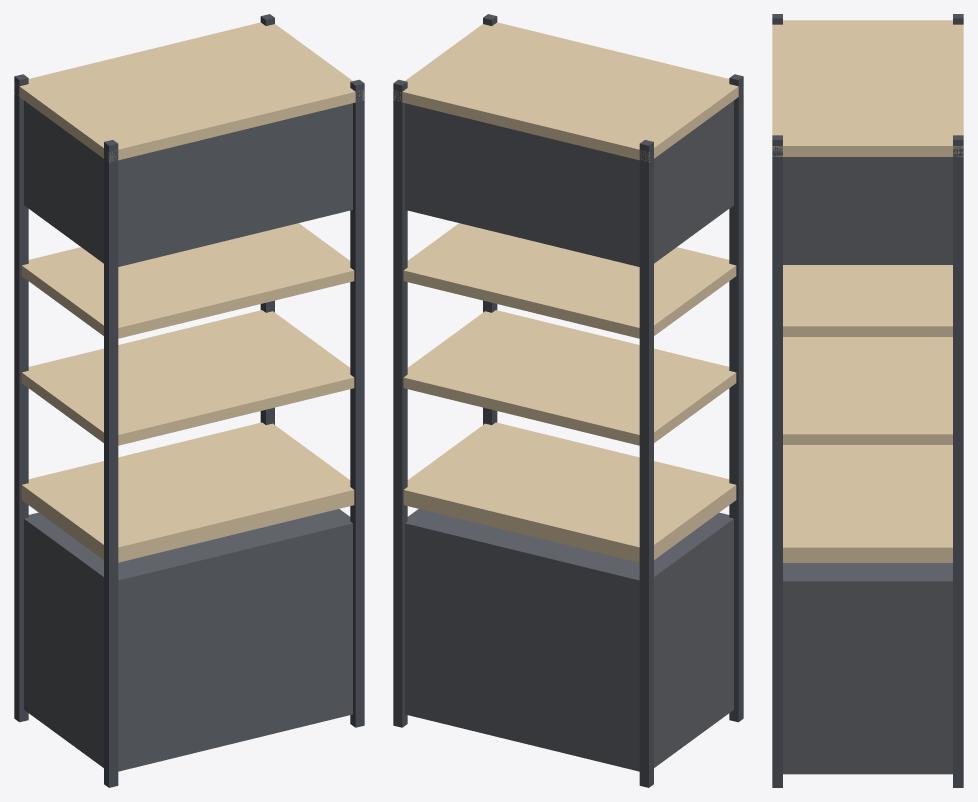
File: fabio-siyah.glb
3 views of the same model, side by side, from view 1: azimuth 30°, elevation 25°; view 2: azimuth 150°, elevation 25°; view 3: azimuth 270°, elevation 25° (orthographic).
Size of the model in its own units: 0.7 by 1.68 by 0.45.
